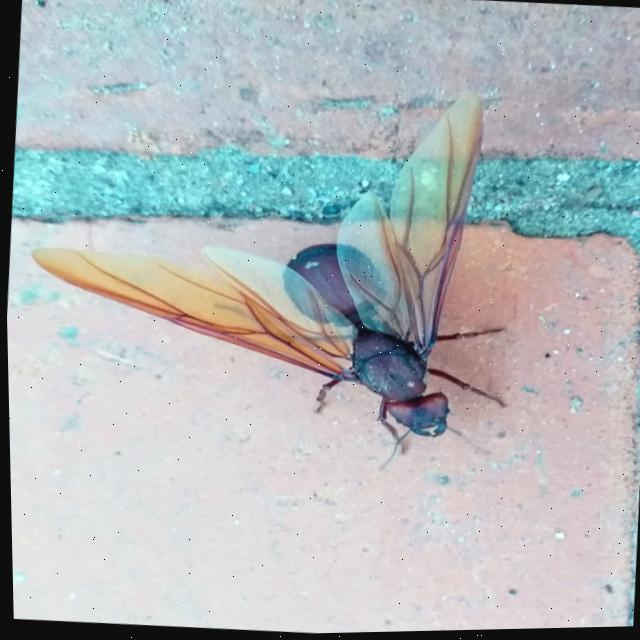Alive-Female-Alate: (14, 64, 527, 488)
